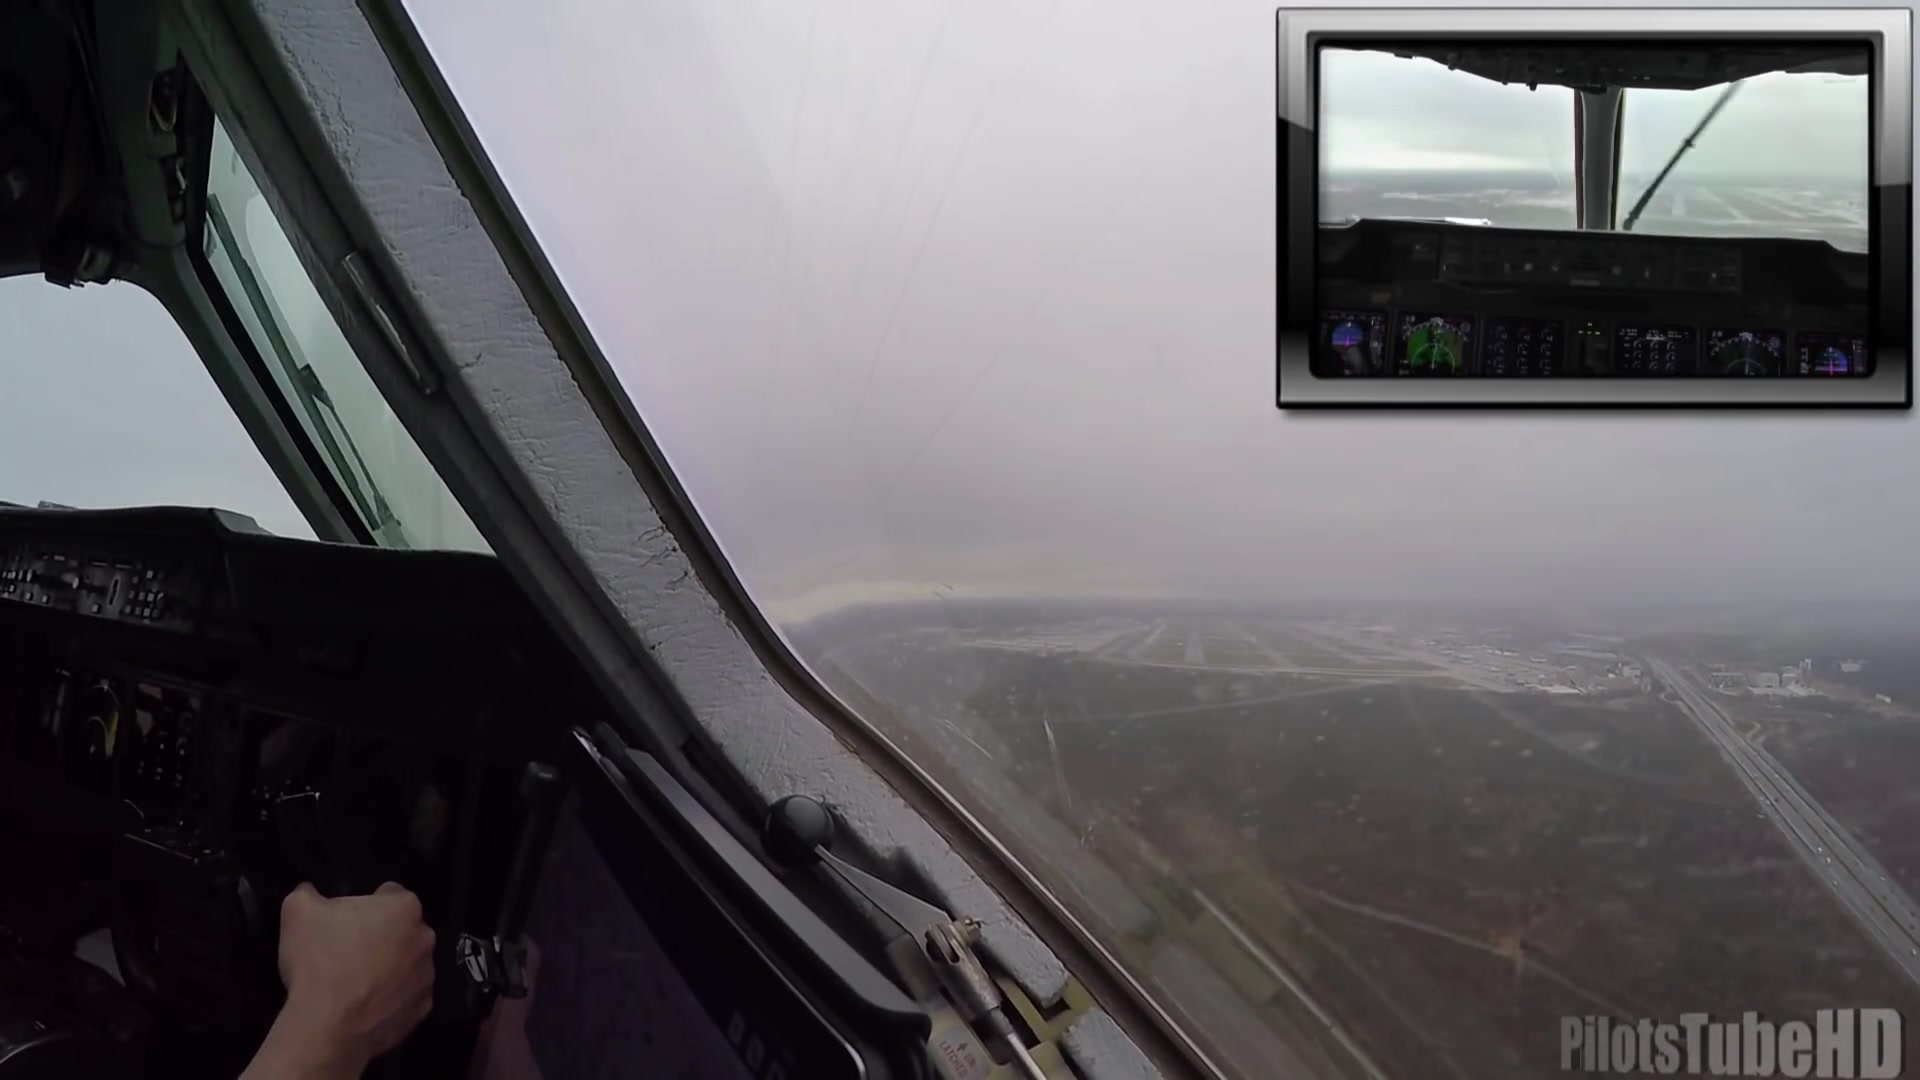runway: (1182, 624, 1205, 665)
